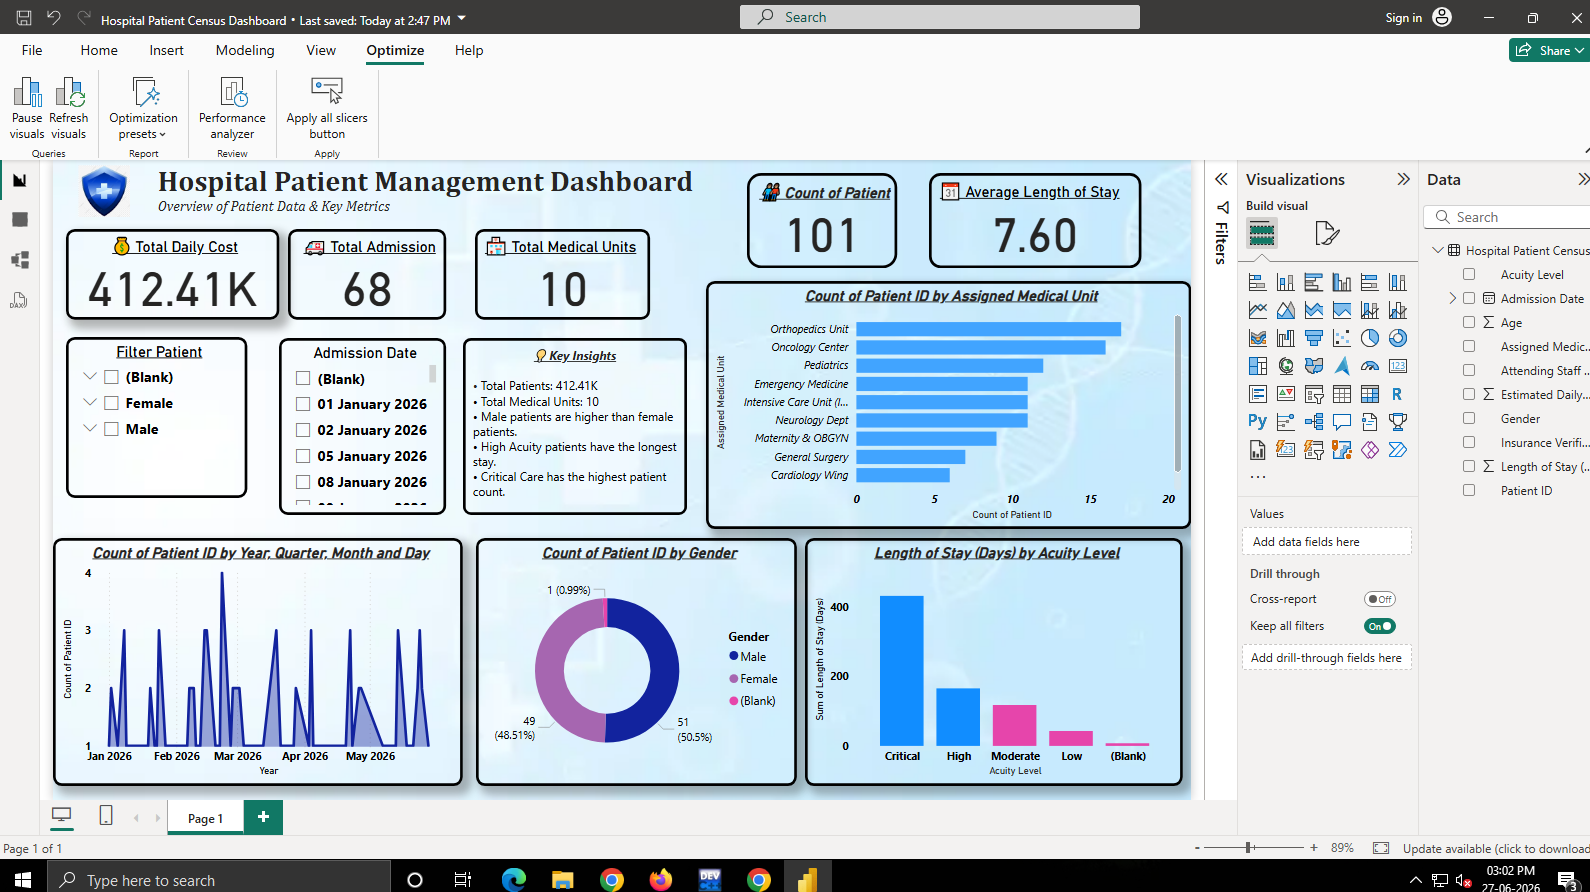

The dashboard page shown, as its layout file describes it:
{"tool":"powerbi","page":{"name":"Page 1","canvas":[1280,720],"ordinal":0},"visuals":[{"type":"card","title":"💰 Total Daily Cost","fields":{"Values":["Sum(Hospital Patient Census.Estimated Daily Cost)"]},"box":[14.6,77.6,239.6,102.4],"z":0},{"type":"clusteredBarChart","fields":{"Category":["Hospital Patient Census.Assigned Medical Unit"],"Y":["CountNonNull(Hospital Patient Census.Patient ID)"]},"box":[734.8,135.6,545.7,279.1],"z":1000},{"type":"donutChart","fields":{"Category":["Hospital Patient Census.Gender"],"Y":["CountNonNull(Hospital Patient Census.Patient ID)"]},"box":[475.5,425.4,361.1,278.9],"z":2000},{"type":"lineChart","fields":{"Y":["CountNonNull(Hospital Patient Census.Patient ID)"],"Category":["Hospital Patient Census.Admission Date.Variation.Date Hierarchy.Year","Hospital Patient Census.Admission Date.Variation.Date Hierarchy.Quarter","Hospital Patient Census.Admission Date.Variation.Date Hierarchy.Month","Hospital Patient Census.Admission Date.Variation.Date Hierarchy.Day"]},"box":[0,425.4,461.4,278.9],"z":3000},{"type":"clusteredColumnChart","title":"Length of Stay (Days) by Acuity Level","fields":{"Category":["Hospital Patient Census.Acuity Level"],"Y":["Sum(Hospital Patient Census.Length of Stay (Days))"]},"box":[845.6,425.4,425.4,278.9],"z":4000},{"type":"slicer","title":"Filter Patients","fields":{"Values":["Hospital Patient Census.Gender","Hospital Patient Census.Assigned Medical Unit","Hospital Patient Census.Insurance Verified","Hospital Patient Census.Admission Date"]},"box":[14.6,200.2,216,199.1],"z":5000},{"type":"textbox","box":[0,0,640.3,77.5],"z":6000},{"type":"card","title":"👨🏽🤝👨🏽 Count of Patient","fields":{"Values":["CountNonNull(Hospital Patient Census.Patient ID)"]},"box":[780.8,14.6,168.8,106.9],"z":7000},{"type":"image","box":[23.1,0,68.1,69.4],"z":8000},{"type":"card","title":"📆  Average Length of Stay","fields":{"Values":["Sum(Hospital Patient Census.Length of Stay (Days))"]},"box":[985.5,14.6,238.5,106.9],"z":9000},{"type":"card","title":"Total Admission","fields":{"Values":["Count(Hospital Patient Census.Admission Date)"]},"box":[264.4,77.6,177.8,102.4],"z":10000},{"type":"card","title":"🏣 Total Medical Units","fields":{"Values":["Count(Hospital Patient Census.Assigned Medical Unit)"]},"box":[474.8,77.6,196.9,102.4],"z":11000},{"type":"slicer","title":"Admission Date","fields":{"Values":["Hospital Patient Census.Admission Date"]},"box":[254.2,200.2,187.9,199.1],"z":12000},{"type":"textbox","box":[461.2,200.2,252,199.1],"z":13000}]}

Visuals, with their boxes on the page's 1280x720 design canvas (x1, y1, x2, y2). These are canvas units, not pixel positions in the 1590x892 screenshot, which may show the page scaled, cropped or inside an application window:
"💰 Total Daily Cost" card: 15/78/254/180
clusteredBarChart - Hospital Patient Census.Assigned Medical Unit x CountNonNull(Hospital Patient Census.Patient ID): 735/136/1280/415
donutChart - Hospital Patient Census.Gender x CountNonNull(Hospital Patient Census.Patient ID): 476/425/837/704
lineChart - CountNonNull(Hospital Patient Census.Patient ID) x Hospital Patient Census.Admission Date.Variation.Date Hierarchy.Year: 0/425/461/704
"Length of Stay (Days) by Acuity Level" clusteredColumnChart: 846/425/1271/704
"Filter Patients" slicer: 15/200/231/399
textbox: 0/0/640/78
"👨🏽🤝👨🏽 Count of Patient" card: 781/15/950/122
image: 23/0/91/69
"📆  Average Length of Stay" card: 986/15/1224/122
"Total Admission" card: 264/78/442/180
"🏣 Total Medical Units" card: 475/78/672/180
"Admission Date" slicer: 254/200/442/399
textbox: 461/200/713/399
